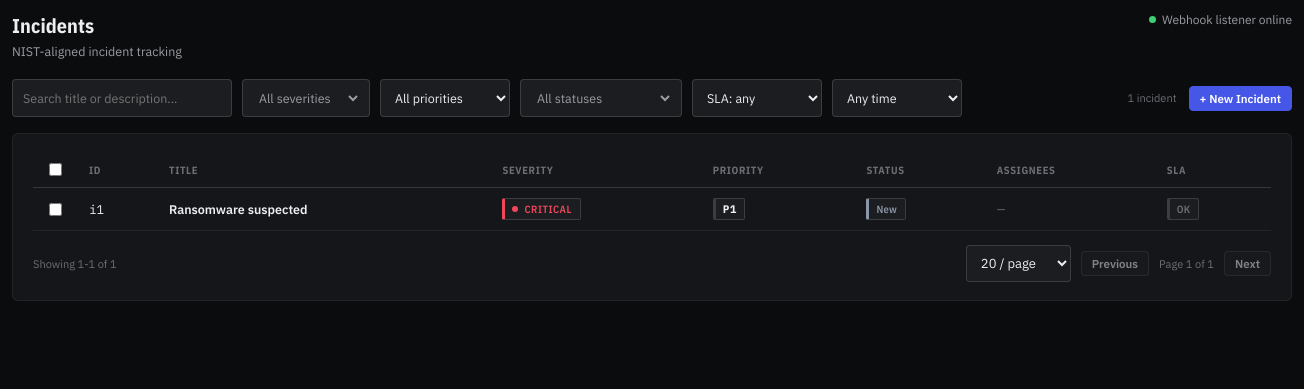
IncidentsListPage › bulk phase-change › selecting a row shows the bulk toolbar with a count, and it disappears on clear
Expected: the text "Ransomware suspected" is shown, 157,188 -> 490,230
Expected: the text "1 selected" is not shown
Click the checkbox named "Select incident": (56,209) 49,202 -> 62,216
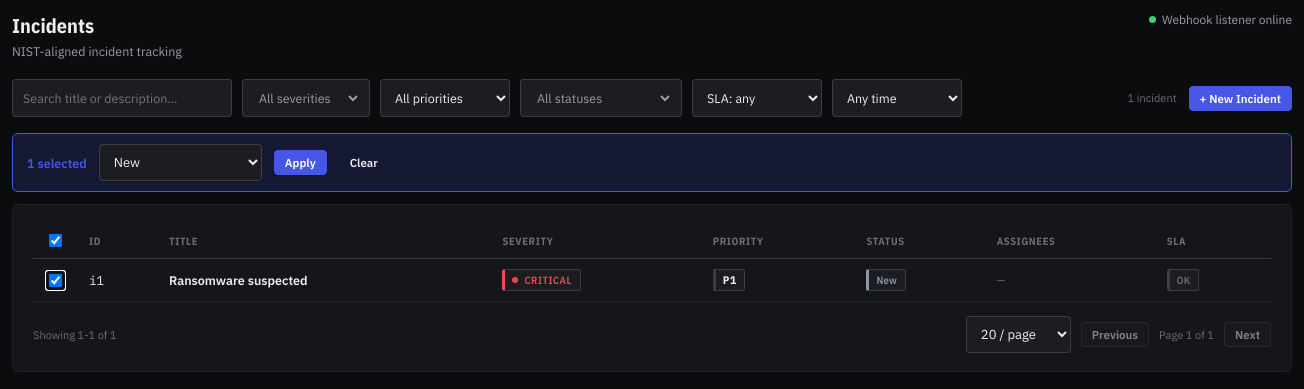
Now the text "1 selected" is shown, box 27,154 -> 87,170
Click the button "Clear": (364,162) 339,150 -> 389,175
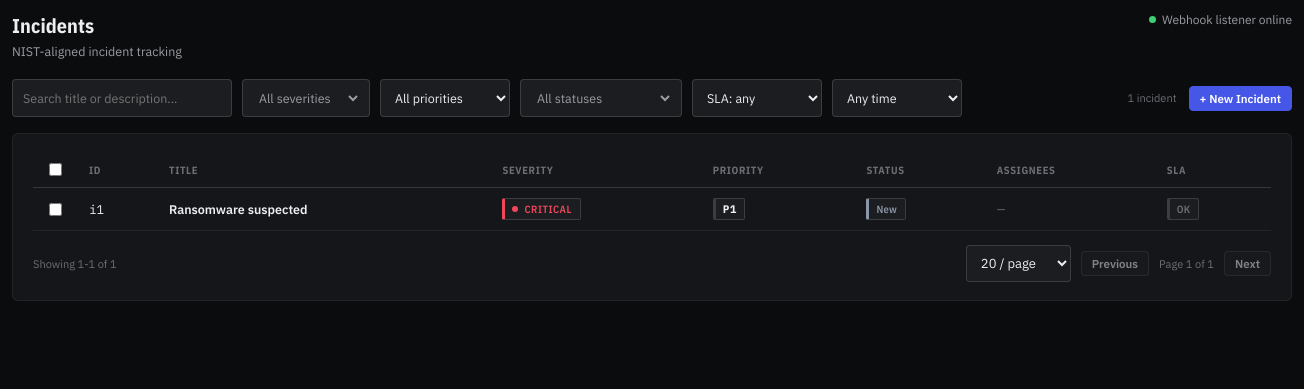
Now the text "1 selected" is gone
